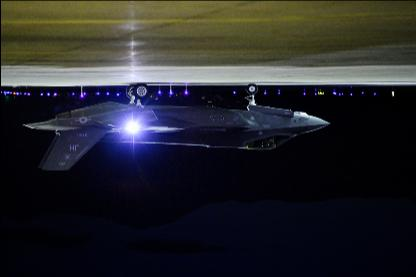F22: (20, 84, 330, 170)
